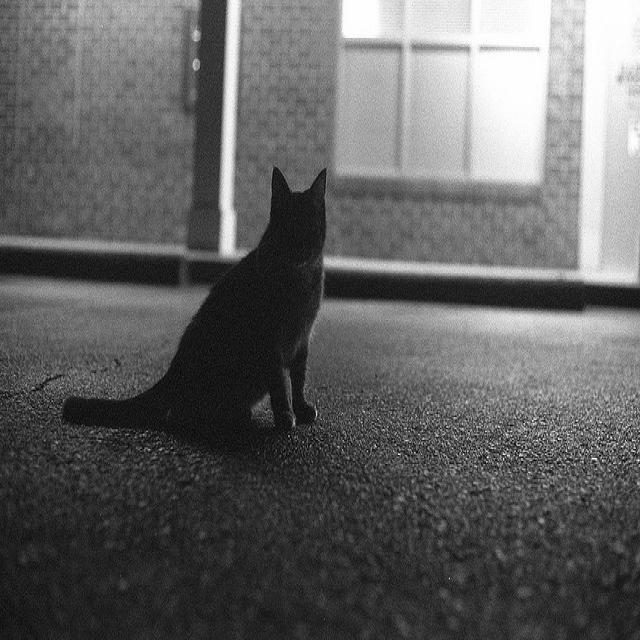Cat: (37, 142, 355, 497)
